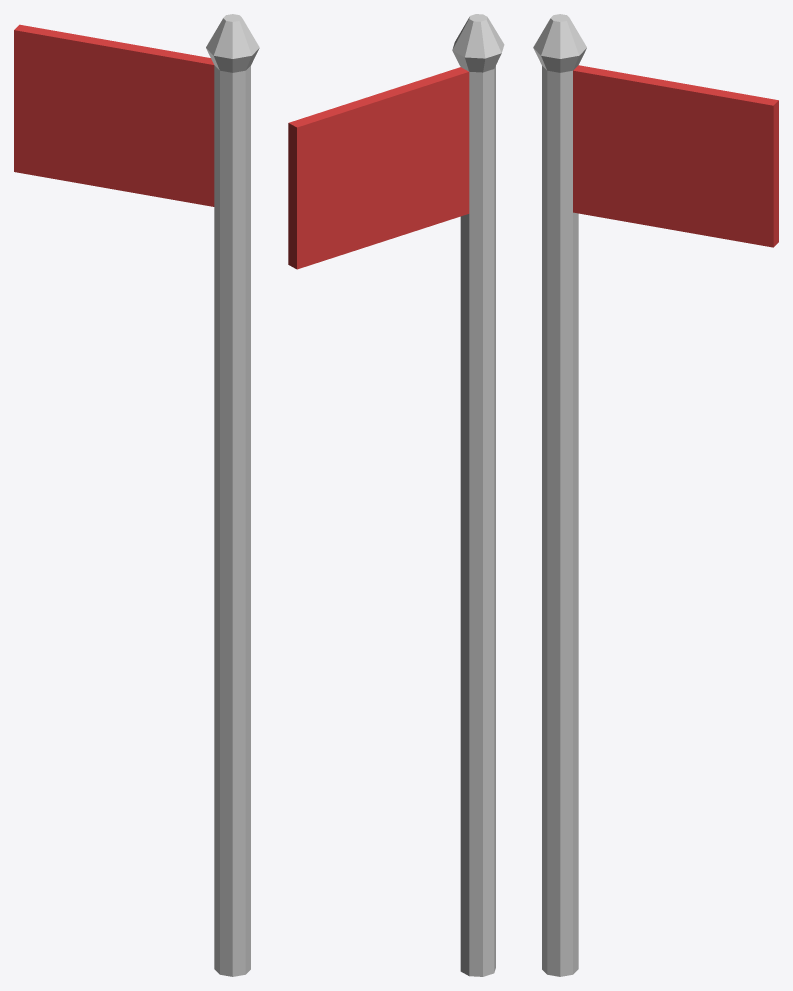
File: flag.fbx
The picture shows the model from 3 angles, left to right: view 1: azimuth 90°, elevation 25°; view 2: azimuth 150°, elevation 25°; view 3: azimuth 270°, elevation 25°; orthographic projection.
Visible parts, largest first — view 1: Cylinder.001; view 2: Cylinder.001; view 3: Cylinder.001.
Part boxes in pixels (bbox=[...]): Cylinder.001: bbox=[14, 14, 259, 976]; Cylinder.001: bbox=[288, 14, 504, 976]; Cylinder.001: bbox=[533, 14, 778, 976].
Size of the model in its own units: 4.12 by 35.19 by 8.24.
